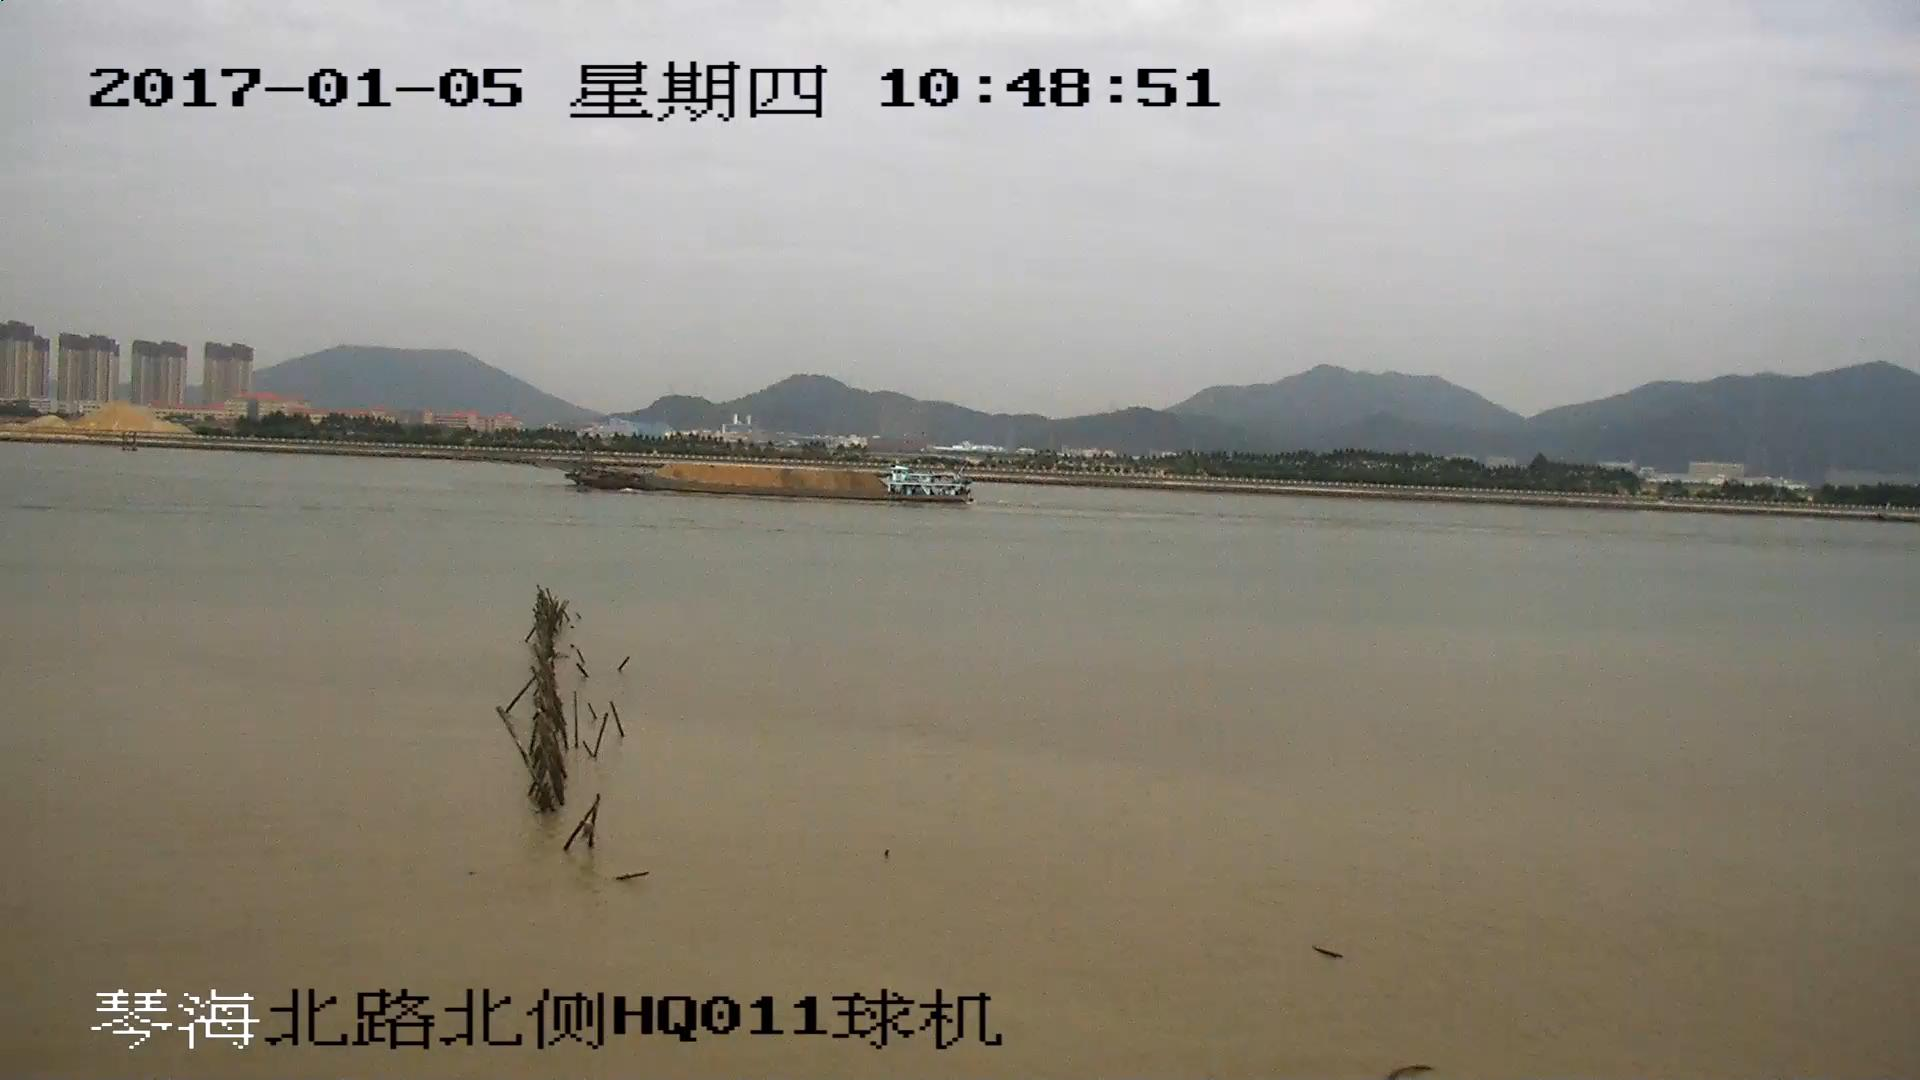ore carrier: (560, 450, 966, 504)
